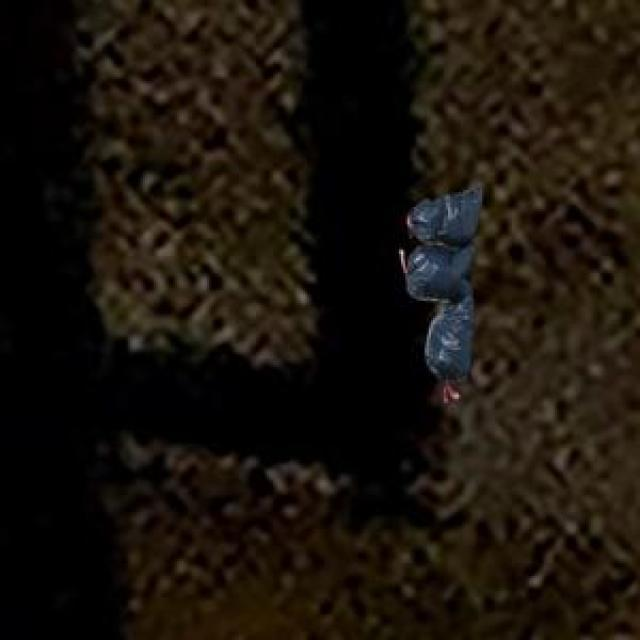waste: (408, 186, 479, 379)
